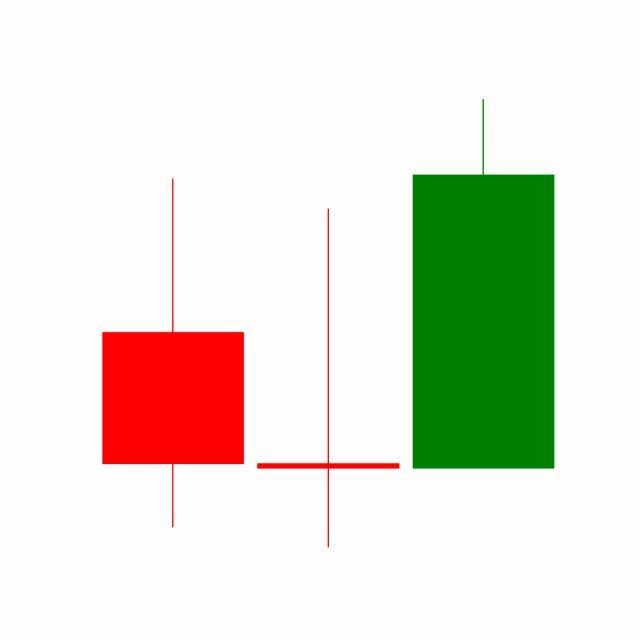Spinning Top: (250, 206, 407, 552)
